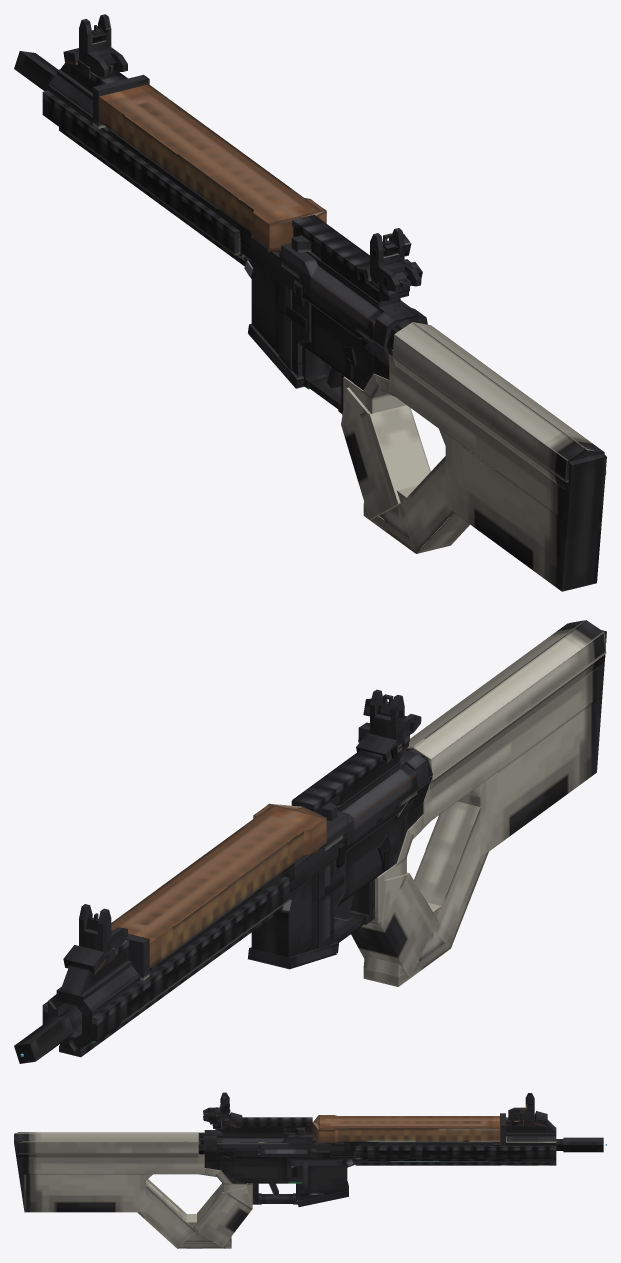
3 renders of one model, top to bottom at view 1: azimuth 30°, elevation 25°; view 2: azimuth 150°, elevation 25°; view 3: azimuth 270°, elevation 25°, orthographic. The views are drawn at different scales.
Parts seen in each view (by area): view 1: gun, magazine, bone5, bone2, rearsight, frontsight, rearsight2, barrel, frontsight2, bone4; view 2: gun, magazine, bone5, bone3, barrel, rearsight, bone2, frontsight, bone4; view 3: gun, magazine, bone4, barrel, bone3, bone2, action, rearsight2, frontsight, frontsight2, rearsight.
Part boxes in pixels (x1,y1,x2,y2): gun: (48,63,606,591); magazine: (93,74,326,252); bone5: (42,90,240,255); bone2: (311,265,426,331); rearsight: (370,228,411,281); frontsight: (79,14,111,65); rearsight2: (371,261,422,291); barrel: (14,51,57,91); frontsight2: (81,47,127,76); bone4: (59,127,244,265); gun: (42,620,606,1051); magazine: (111,803,326,980); bone5: (91,876,289,1041); bone3: (63,722,402,974); barrel: (14,1005,81,1063); rearsight: (363,689,404,742); bone2: (342,748,427,818); frontsight: (79,904,111,954); bone4: (59,911,275,1057); gun: (14,1117,556,1248); magazine: (312,1113,505,1145); bone4: (354,1162,556,1165); barrel: (494,1137,603,1152); bone3: (221,1111,547,1128); bone2: (198,1130,284,1142); action: (258,1149,330,1157); rearsight2: (203,1107,227,1124); frontsight: (525,1093,534,1120); frontsight2: (508,1107,529,1121); rearsight: (219,1092,230,1121).
Bounding box in the file's own units: 39.08 × 170 × 617.
